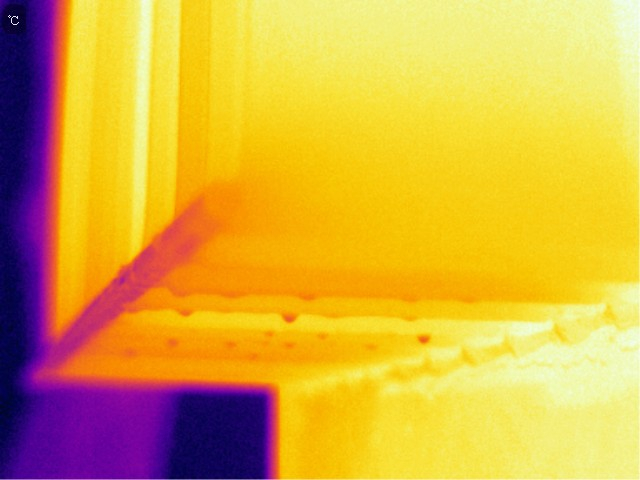Oil: (217, 285, 247, 305), (167, 282, 198, 300), (278, 303, 301, 327), (293, 283, 320, 303), (457, 289, 485, 308), (218, 335, 248, 352), (172, 305, 200, 319), (279, 335, 303, 349), (398, 310, 418, 326), (414, 329, 433, 345), (357, 339, 381, 351), (164, 336, 182, 352), (262, 325, 277, 343), (118, 345, 138, 357), (397, 291, 422, 300), (317, 331, 329, 345), (248, 349, 262, 358)
